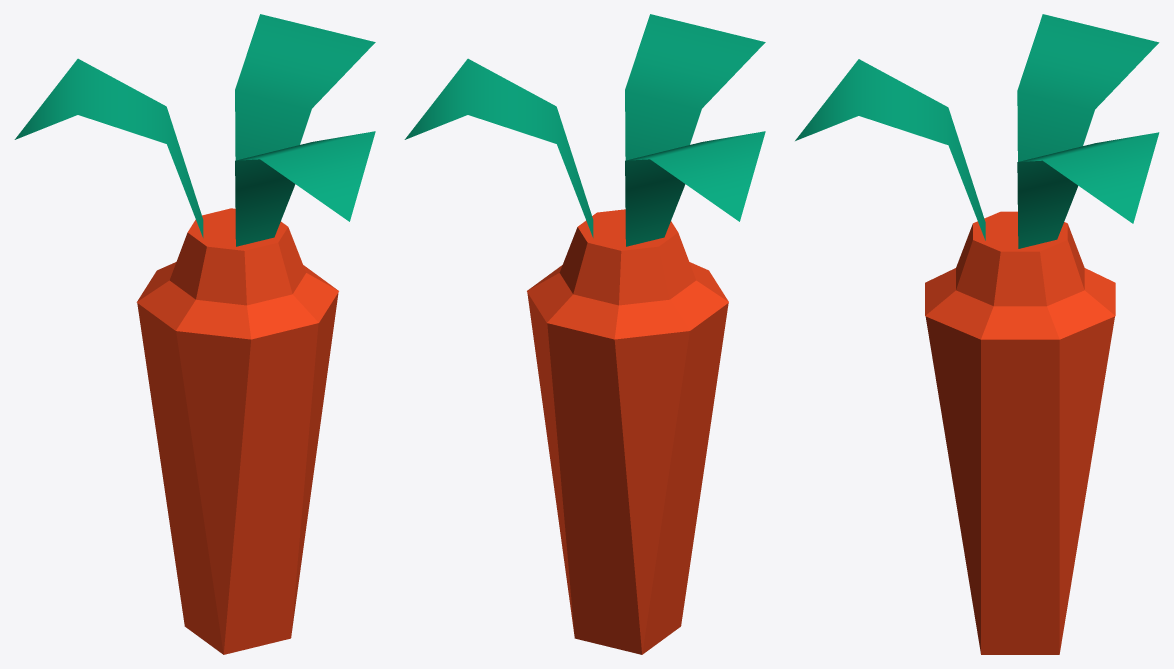
The model's file is collectible_hot_carrot.glb.
The picture shows the model from 3 angles, left to right: view 1: azimuth 30°, elevation 25°; view 2: azimuth 150°, elevation 25°; view 3: azimuth 270°, elevation 25°; orthographic projection.
Parts seen in each view (by area): view 1: trunk_taperReverse, plant_large, trunk_base; view 2: trunk_taperReverse, plant_large, trunk_base; view 3: trunk_taperReverse, plant_large, trunk_base.
Boxes of the visible parts, x1,y1,x2,y2 form: trunk_taperReverse: (137, 292, 338, 654); plant_large: (14, 14, 375, 246); trunk_base: (136, 208, 338, 339); trunk_taperReverse: (527, 292, 728, 654); plant_large: (404, 14, 765, 246); trunk_base: (527, 209, 728, 339); trunk_taperReverse: (925, 316, 1114, 654); plant_large: (795, 14, 1159, 248); trunk_base: (925, 211, 1115, 339).
Size of the model in its own units: 0.523 by 0.8128 by 0.488.
